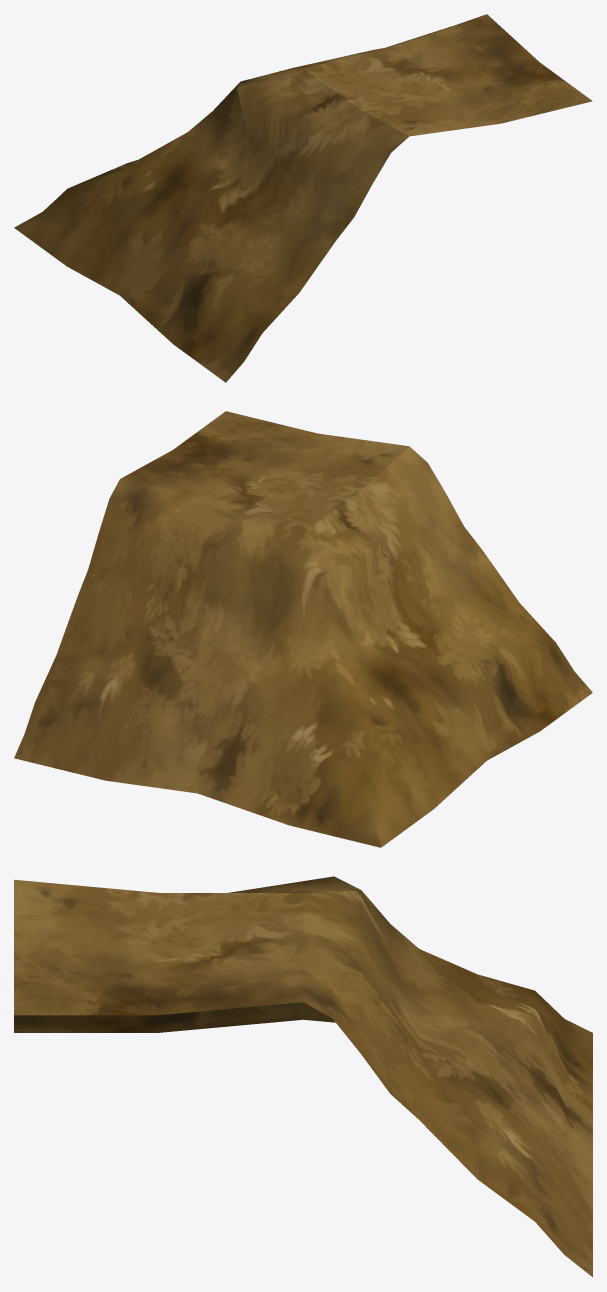
The model's file is Levelled_Slope_Corner_002.fbx.
3 renders of one model, top to bottom at view 1: azimuth 30°, elevation 25°; view 2: azimuth 150°, elevation 25°; view 3: azimuth 270°, elevation 25°, orthographic. The views are drawn at different scales.
Visible parts, largest first — view 1: Levelled_Slope_Corner_002; view 2: Levelled_Slope_Corner_002; view 3: Levelled_Slope_Corner_002.
Part boxes in pixels (x1,y1,x2,y2): Levelled_Slope_Corner_002: (14, 14, 592, 382); Levelled_Slope_Corner_002: (14, 411, 592, 847); Levelled_Slope_Corner_002: (14, 876, 592, 1277).
Size of the model in its own units: 10 by 5.25 by 10.
1 material, 1 textured.
